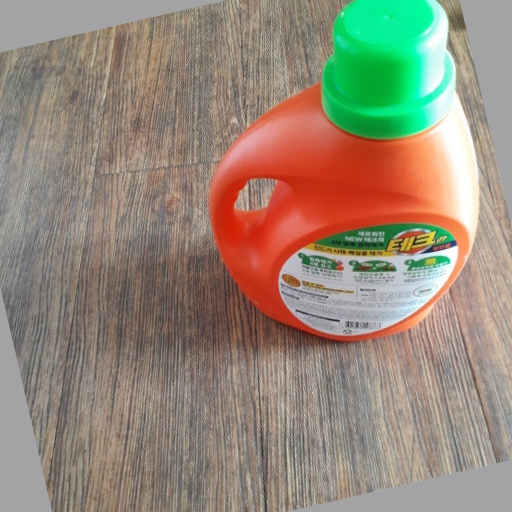Plastic_1: (207, 3, 479, 344)
